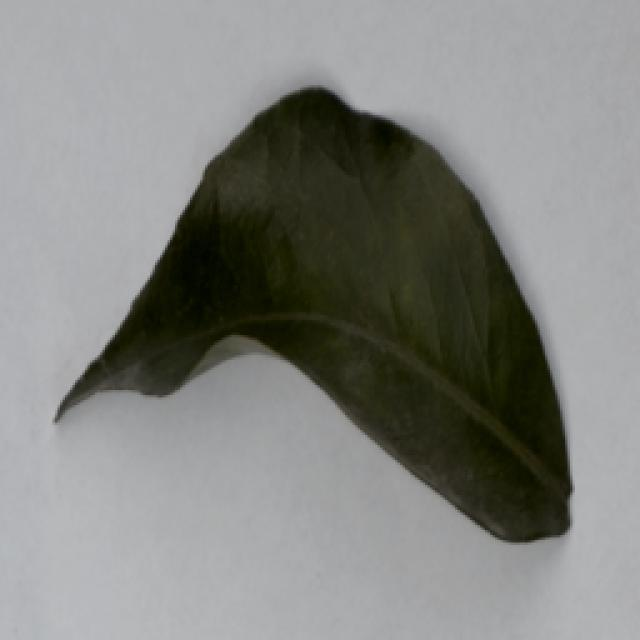healthy: (50, 76, 586, 566)
